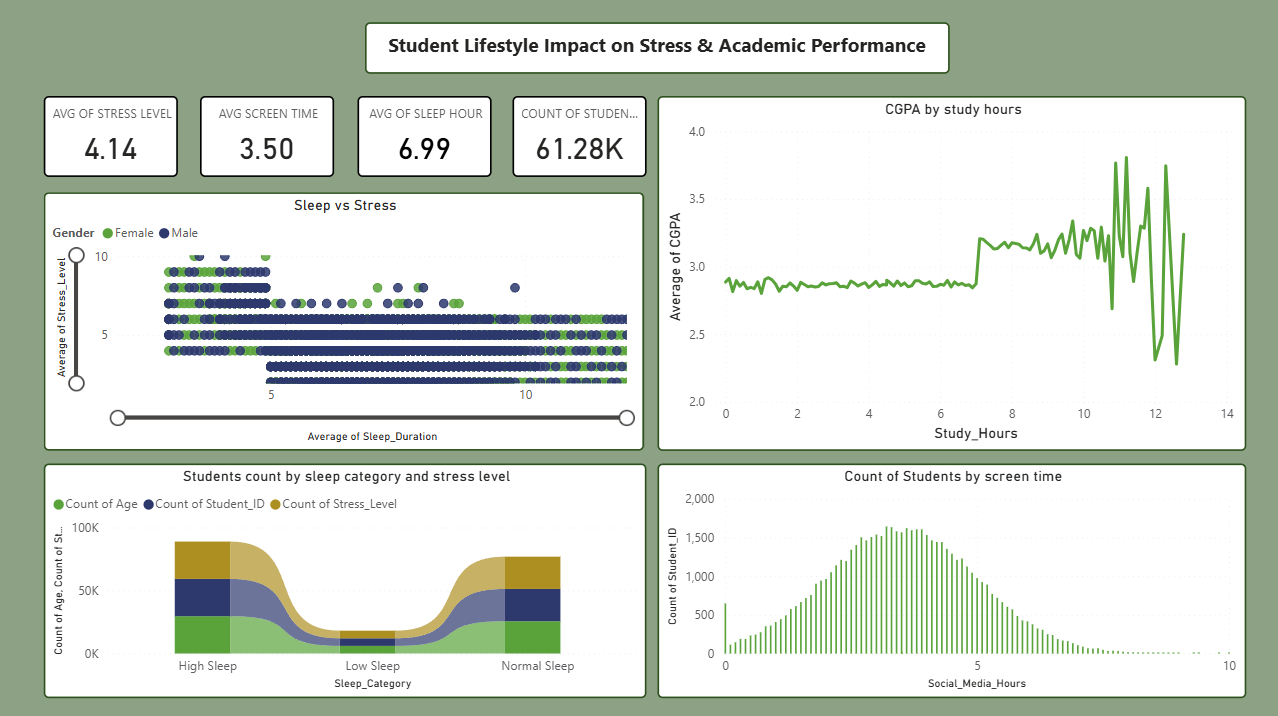

The dashboard page shown, as its layout file describes it:
{"tool":"powerbi","page":{"name":"Dashboard","canvas":[1280,720],"ordinal":0},"visuals":[{"type":"card","fields":{"Values":["Avg(Sheet1.Stress_Level)"]},"box":[52.8,102.7,130.8,79.5],"z":0},{"type":"card","fields":{"Values":["Avg(Sheet1.Sleep_Duration)"]},"box":[359.7,102.7,130.8,79.5],"z":1000},{"type":"card","fields":{"Values":["Avg(Sheet1.Total_Screen_Time)"]},"box":[205.7,102.7,130.8,79.5],"z":2000},{"type":"textbox","box":[366.8,30.6,572.3,50.1],"z":3000},{"type":"card","fields":{"Values":["CountNonNull(Sheet1.Student_ID)"]},"box":[511.4,102.7,130.8,79.5],"z":4000},{"type":"ribbonChart","title":"Students count by sleep category and stress level","fields":{"Category":["Sheet1.Sleep_Category"],"Y":["CountNonNull(Sheet1.Student_ID)","CountNonNull(Sheet1.Stress_Level)"]},"box":[52.8,462.2,589.4,229.9],"z":5000},{"type":"scatterChart","title":"Sleep vs Stress","fields":{"X":["Avg(Sheet1.Sleep_Duration)"],"Y":["Avg(Sheet1.Stress_Level)"],"Series":["Sheet1.Gender"],"Category":["Sheet1.Student_ID"]},"box":[52.6,196.9,587,253.1],"z":6000},{"type":"lineChart","title":"CGPA by study hours","fields":{"Category":["Sheet1.Study_Hours"],"Y":["Avg(Sheet1.CGPA)"]},"box":[653,102.7,576,347.3],"z":7000},{"type":"clusteredColumnChart","title":"Count of Students by screen time","fields":{"Y":["CountNonNull(Sheet1.Student_ID)"],"Category":["Sheet1.Total_Screen_Time"]},"box":[653,462.2,576,229.9],"z":8000}]}

Visuals, with their boxes in screenshot pixels (x1, y1, x2, y2), scaled from the page's 1280x720 canvas onto the 1278x716 screenshot:
card - Avg(Sheet1.Stress_Level): {"x1": 53, "y1": 102, "x2": 183, "y2": 181}
card - Avg(Sheet1.Sleep_Duration): {"x1": 359, "y1": 102, "x2": 490, "y2": 181}
card - Avg(Sheet1.Total_Screen_Time): {"x1": 205, "y1": 102, "x2": 336, "y2": 181}
textbox: {"x1": 366, "y1": 30, "x2": 938, "y2": 80}
card - CountNonNull(Sheet1.Student_ID): {"x1": 511, "y1": 102, "x2": 641, "y2": 181}
"Students count by sleep category and stress level" ribbonChart: {"x1": 53, "y1": 460, "x2": 641, "y2": 688}
"Sleep vs Stress" scatterChart: {"x1": 53, "y1": 196, "x2": 639, "y2": 448}
"CGPA by study hours" lineChart: {"x1": 652, "y1": 102, "x2": 1227, "y2": 448}
"Count of Students by screen time" clusteredColumnChart: {"x1": 652, "y1": 460, "x2": 1227, "y2": 688}
